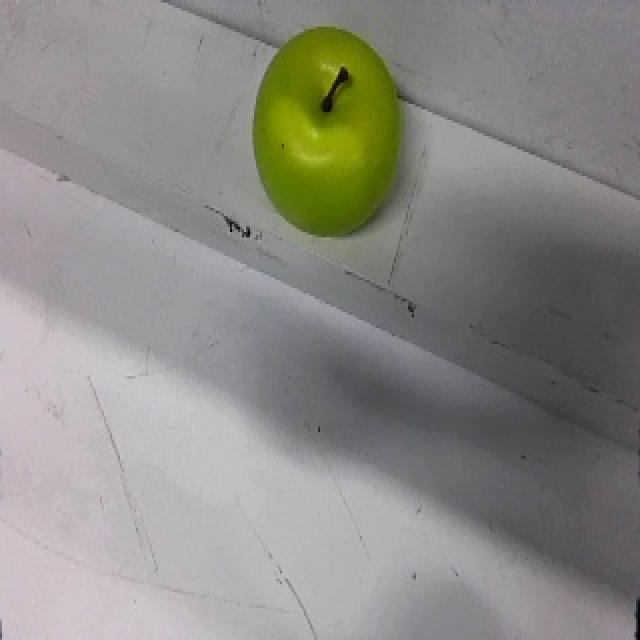apple: (250, 23, 408, 240)
